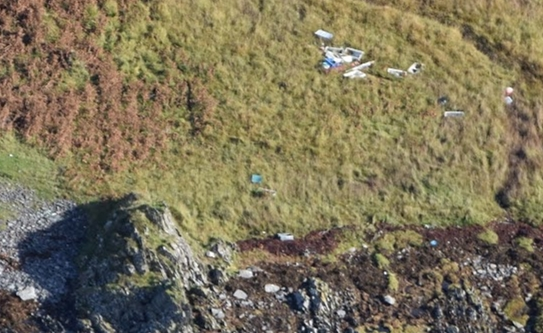scattered_barrel: (239, 165, 311, 243), (433, 79, 519, 125), (226, 259, 287, 309)
together_barrel: (308, 22, 427, 82)
white_in_green: (364, 280, 416, 321)
